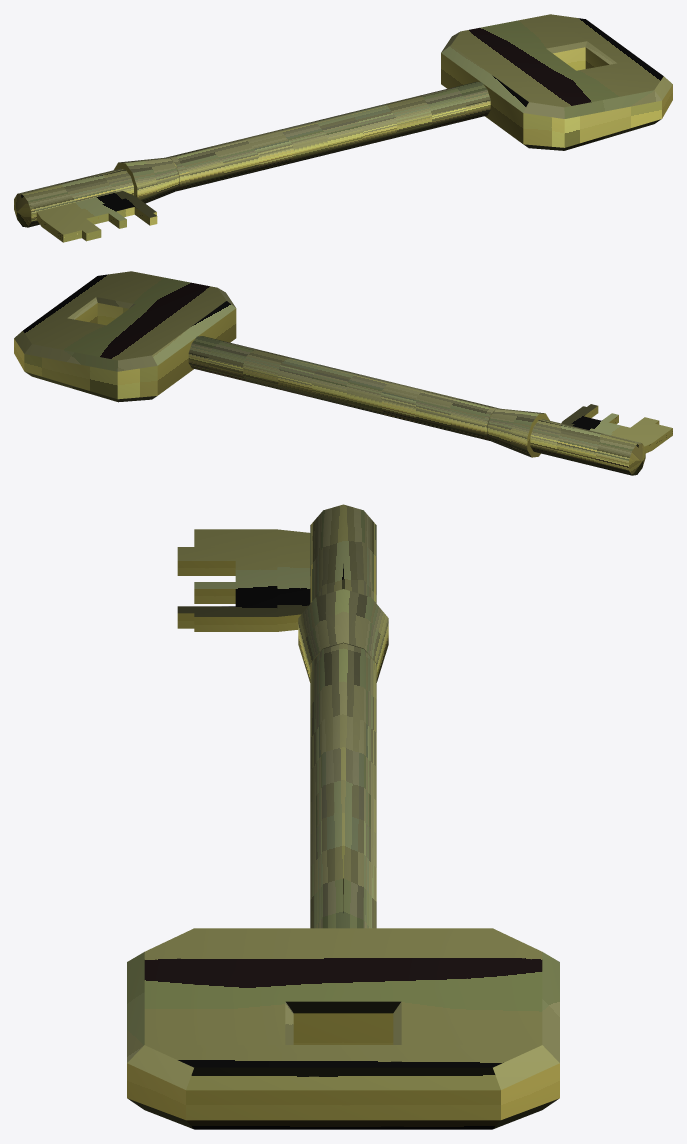
Rendered from GkeyboltZ.obj.
3 renders of one model, top to bottom at view 1: azimuth 30°, elevation 25°; view 2: azimuth 150°, elevation 25°; view 3: azimuth 270°, elevation 25°, orthographic. The views are drawn at different scales.
Size of the model in its own units: 1478 by 106 by 470.
Materials: 1 (1 with a texture image).
